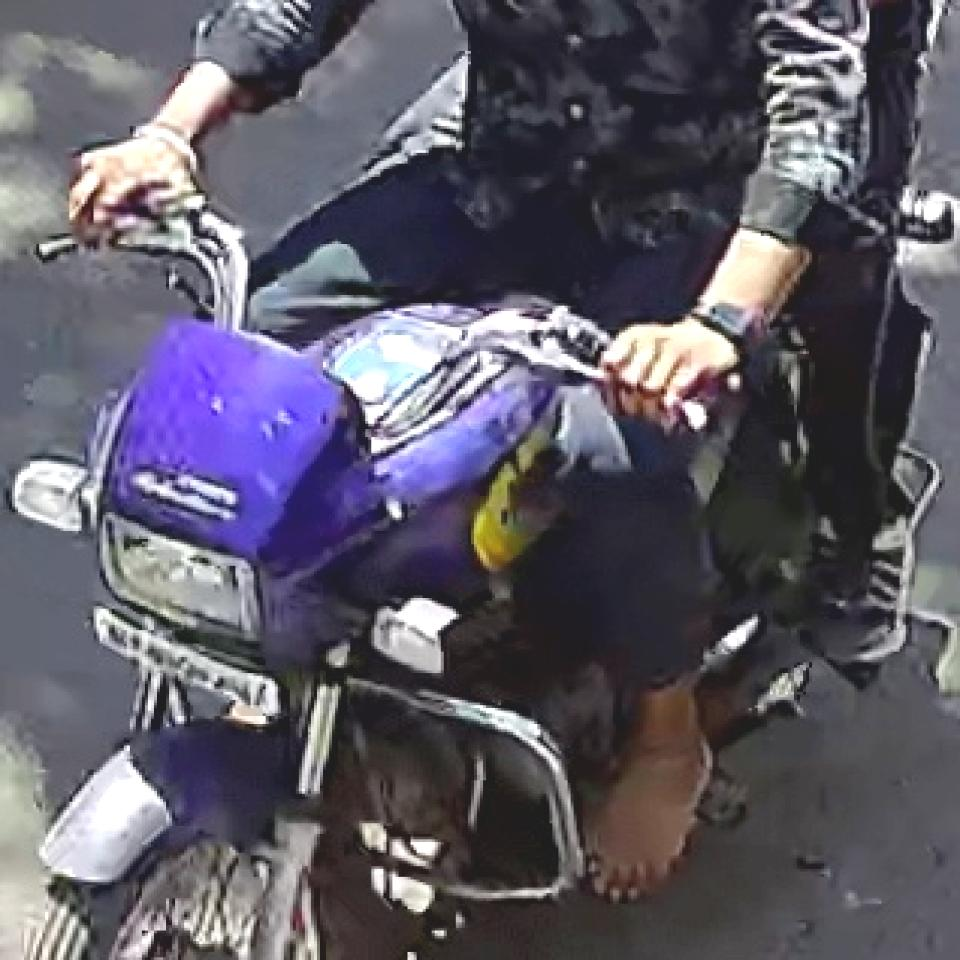head_light: (91, 510, 264, 645)
